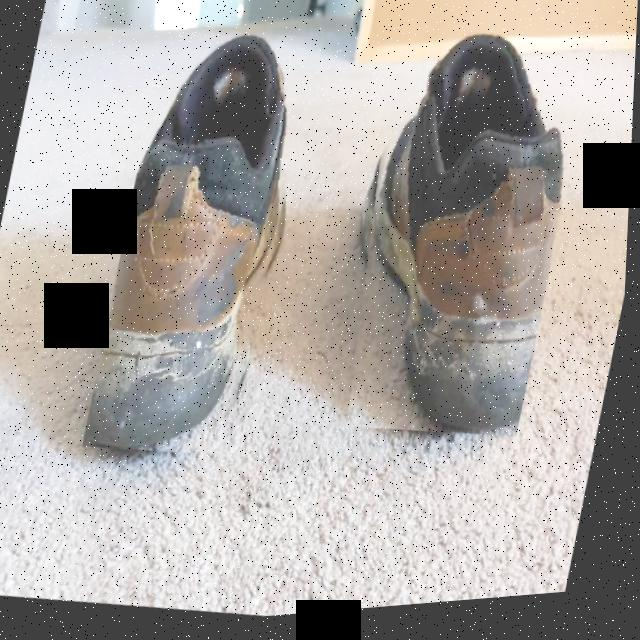shoe: (321, 21, 598, 461), (85, 19, 326, 474)
